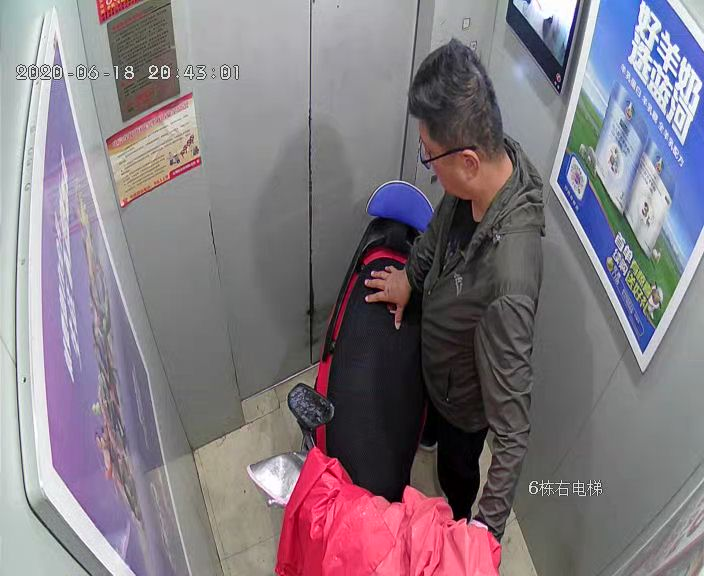Electric-bicycle: (259, 179, 492, 576)
